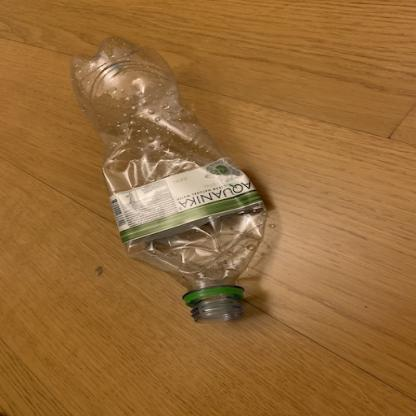trash: (64, 33, 273, 327)
